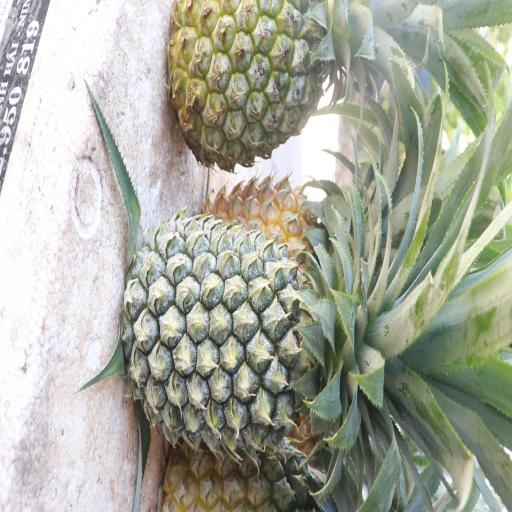------------------------------: (170, 0, 354, 163)
